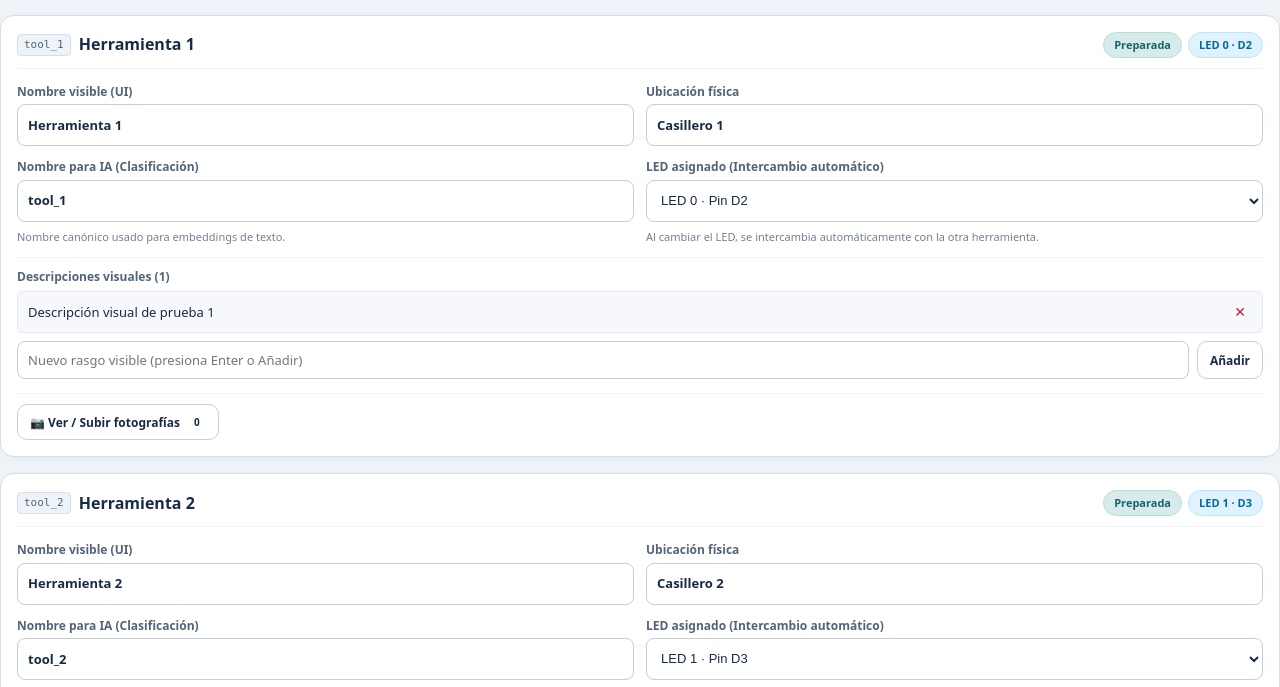
Test: ToolManager component › allows adding and removing visual descriptions
(page scrolled)
expect the text "Descripción visual de prueba 1" is shown: met, box [28,303,215,321]
Note: Add a new description to tool_1
Type "Mango de goma negra estriada" into the field with placeholder "Nuevo rasgo visible (presiona Enter o Añadir)".
click(603, 360); type("Mango de goma negra estriada")  # box [17,341,1189,379]
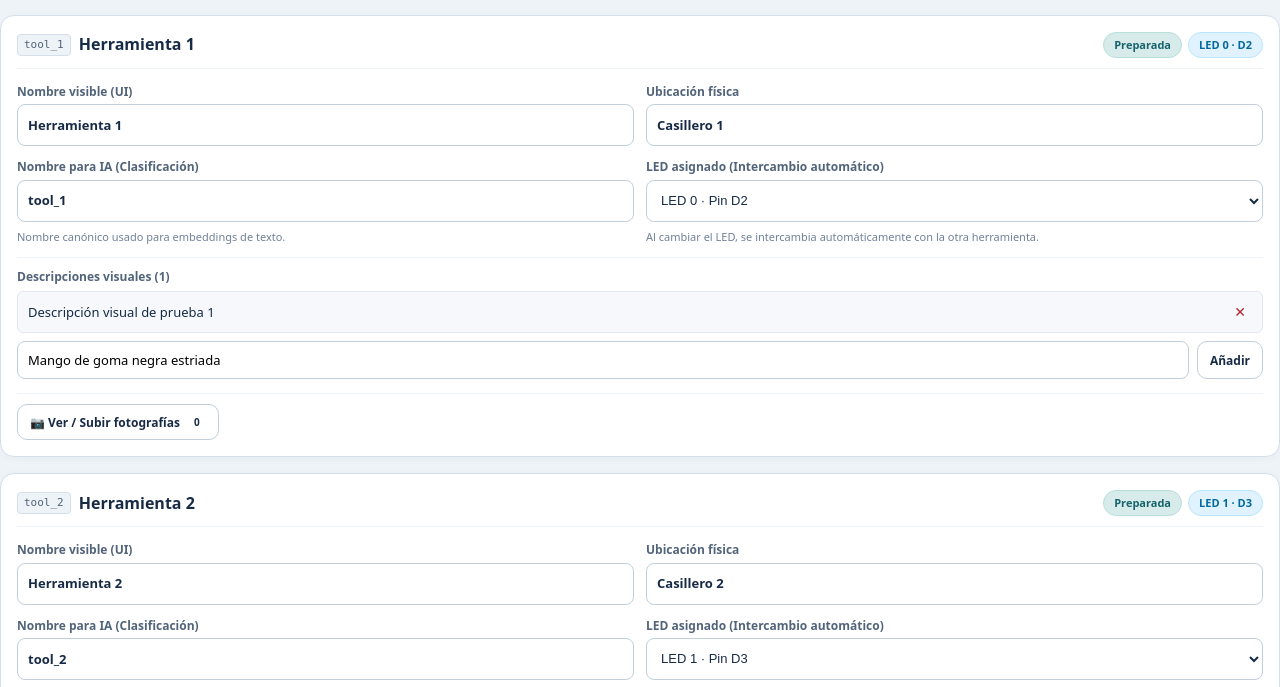
Click the button "Añadir".
click(1230, 360)  # box [1197,341,1263,379]
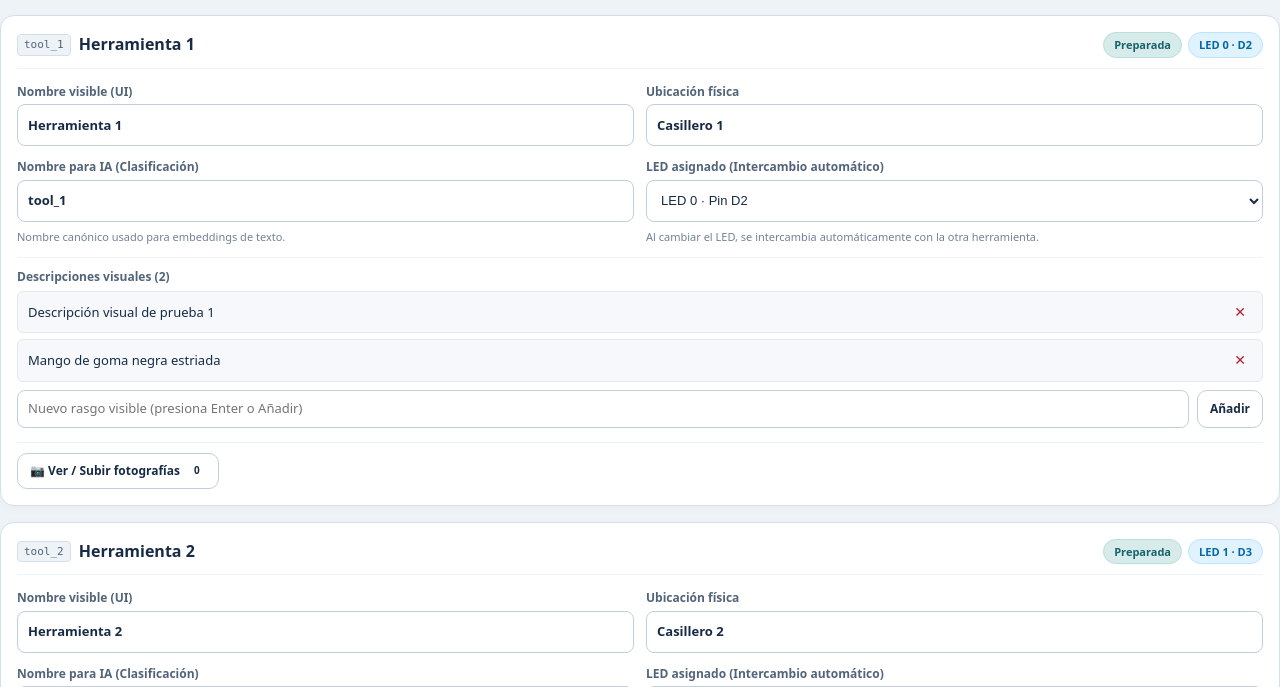
expect the text "Mango de goma negra estriada" is shown: met, box [28,351,220,370]
Note: Remove the first description
Click the button named "Eliminar rasgo: Descripción visual de prueba 1".
click(1240, 312)  # box [1228,298,1252,326]
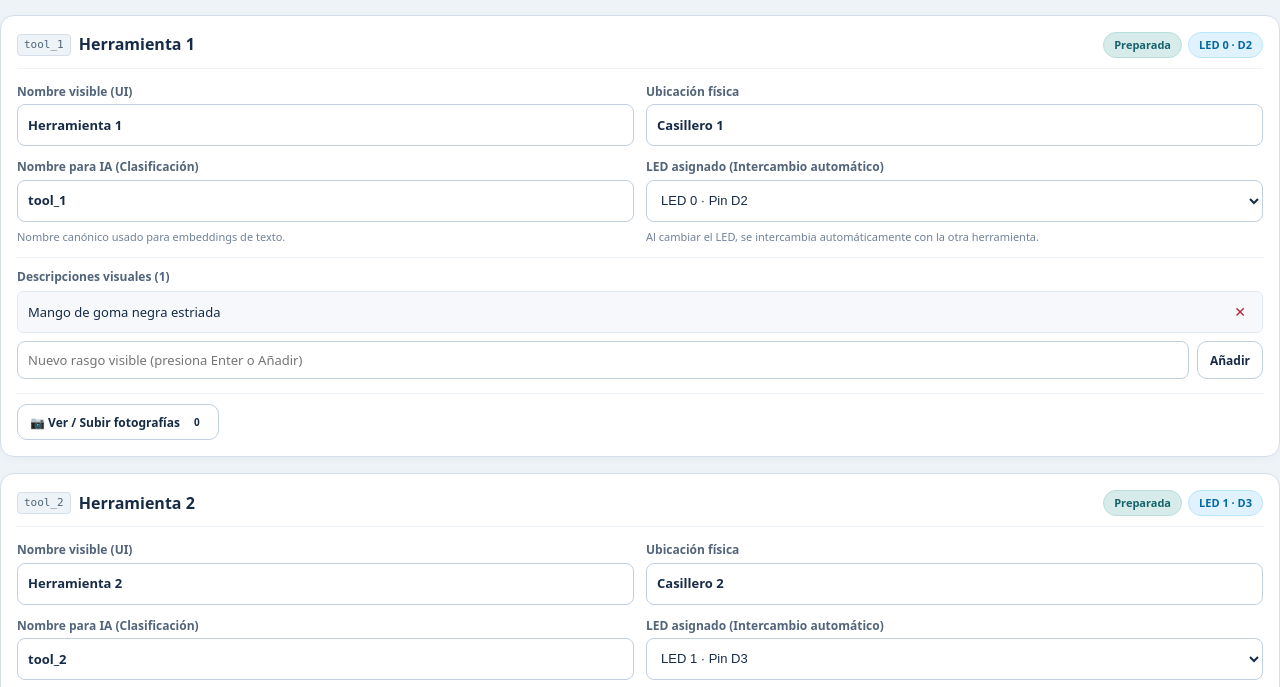
expect the text "Descripción visual de prueba 1" is gone: met
expect the text "Mango de goma negra estriada" is shown: met, box [28,303,220,321]
